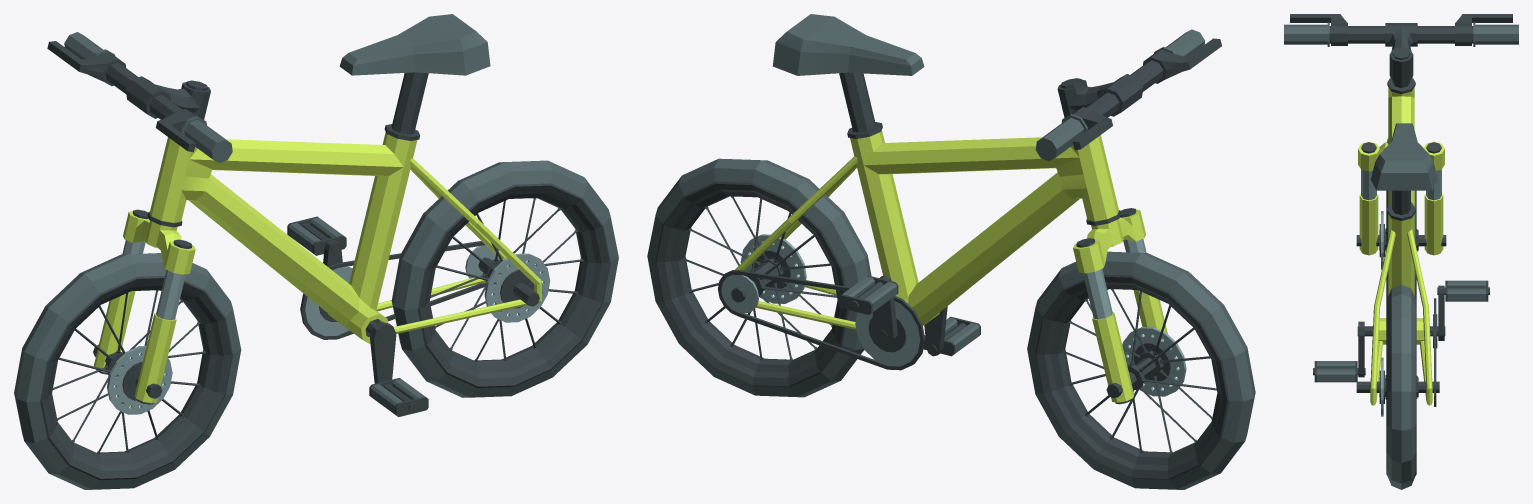
File: bike.fbx
3 views of the same model, side by side, from view 1: azimuth 30°, elevation 25°; view 2: azimuth 150°, elevation 25°; view 3: azimuth 270°, elevation 25° (orthographic). The views are drawn at different scales.
Visible parts, largest first — view 1: polySurface275, polySurface283, polySurface272, polySurface232, polySurface263, polySurface234, polySurface262; view 2: polySurface275, polySurface272, polySurface283, polySurface232, polySurface234, polySurface262, polySurface263; view 3: polySurface275, polySurface283, polySurface263, polySurface262, polySurface232, polySurface234, polySurface272.
Part boxes in pixels (left/top/right/bottom): polySurface275: left=47, top=14, right=541, bottom=404; polySurface283: left=391, top=160, right=618, bottom=397; polySurface272: left=14, top=253, right=241, bottom=489; polySurface232: left=465, top=245, right=550, bottom=322; polySurface263: left=369, top=322, right=428, bottom=416; polySurface234: left=93, top=344, right=172, bottom=414; polySurface262: left=287, top=216, right=346, bottom=266; polySurface275: left=718, top=14, right=1221, bottom=404; polySurface272: left=1027, top=251, right=1255, bottom=489; polySurface283: left=647, top=158, right=871, bottom=397; polySurface232: left=721, top=234, right=806, bottom=313; polySurface234: left=1106, top=327, right=1186, bottom=398; polySurface262: left=838, top=275, right=898, bottom=347; polySurface263: left=923, top=306, right=980, bottom=356; polySurface275: left=1284, top=14, right=1518, bottom=406; polySurface283: left=1385, top=284, right=1417, bottom=489; polySurface263: left=1313, top=321, right=1365, bottom=382; polySurface262: left=1437, top=280, right=1489, bottom=340; polySurface232: left=1356, top=357, right=1439, bottom=416; polySurface234: left=1356, top=211, right=1446, bottom=269; polySurface272: left=1385, top=190, right=1417, bottom=299.
Bounding box in the file's own units: 177 × 113 × 75.39.
